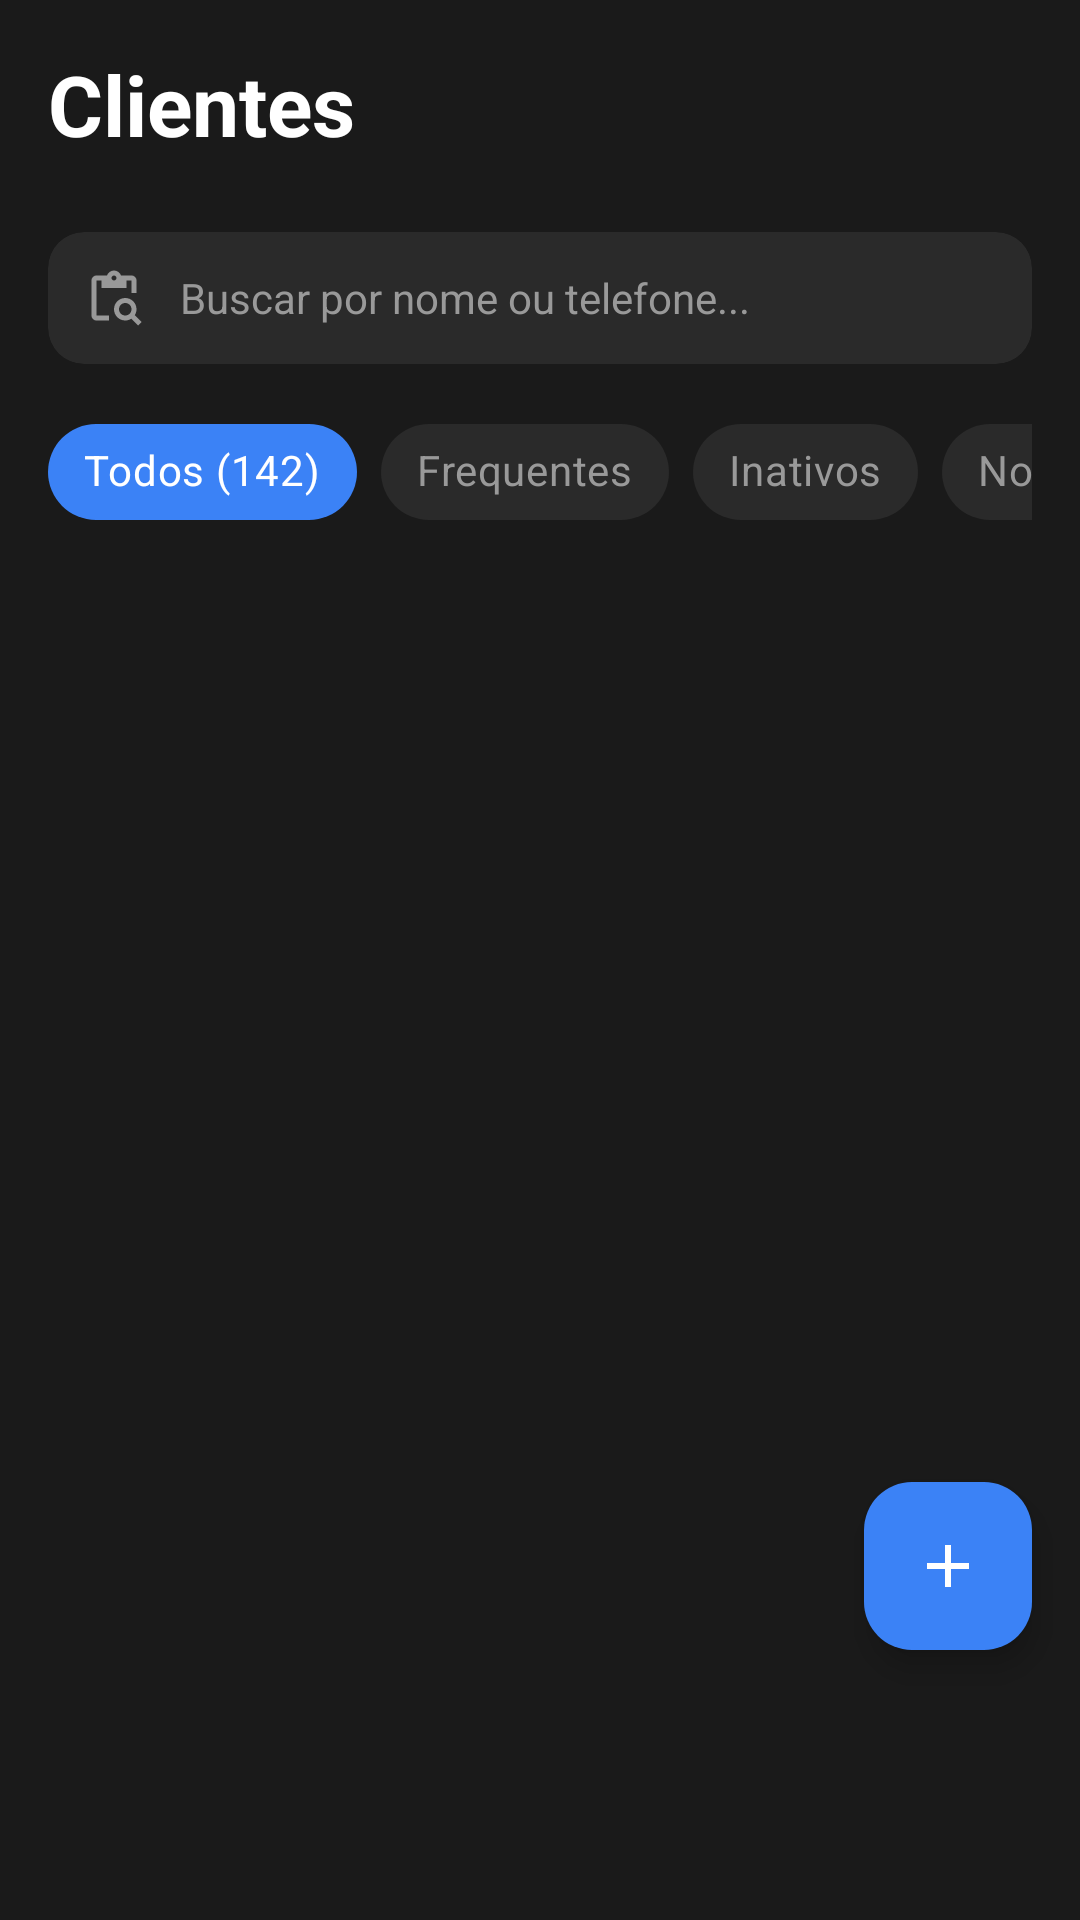

Icons on this 1080px×1920px Android screen, each with its box as (x1, y1, x2, y2):
Adicionar cliente: (864, 1482, 1032, 1650)
search: (91, 270, 141, 325)
